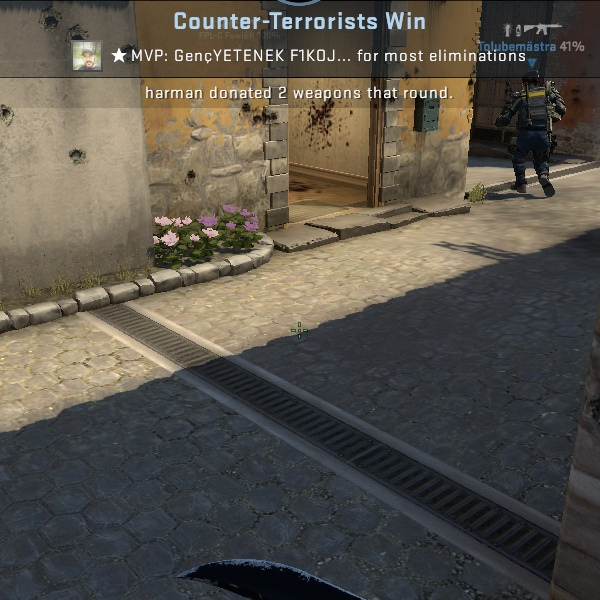t_body: (488, 68, 574, 200)
